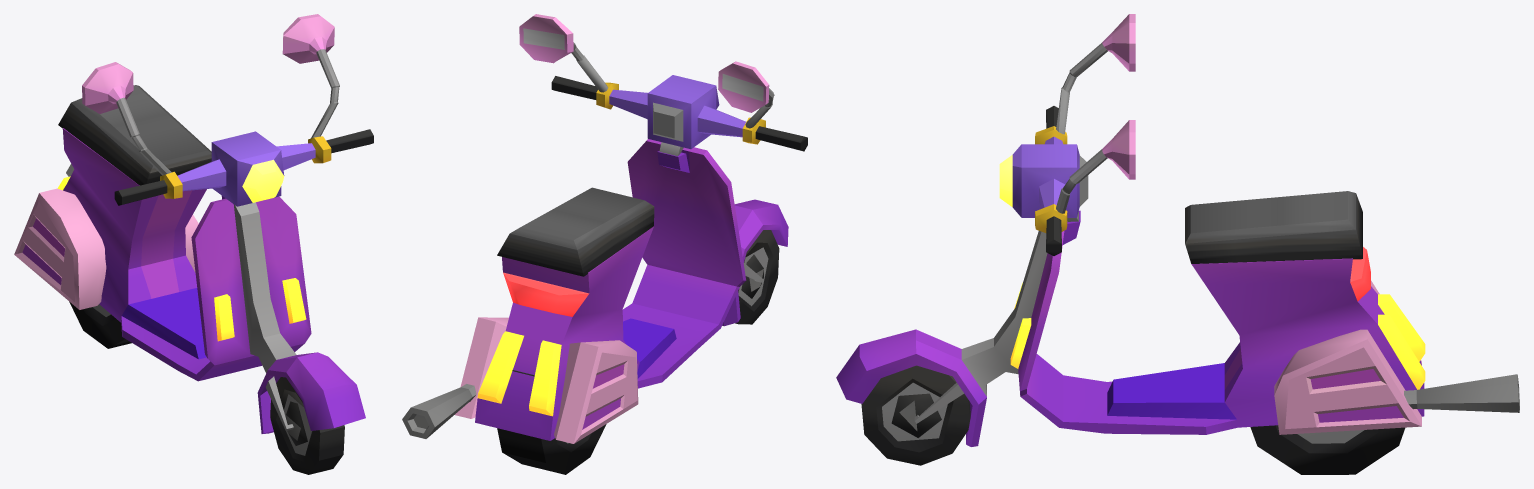
Rendered from scooter.glb.
3 views of the same model, side by side, from view 1: azimuth 30°, elevation 25°; view 2: azimuth 150°, elevation 25°; view 3: azimuth 270°, elevation 25° (orthographic). The views are drawn at different scales.
Parts seen in each view (by area): view 1: Bike; view 2: Bike; view 3: Bike.
Part boxes in pixels (bbox=[...]): Bike: bbox=[14, 14, 373, 474]; Bike: bbox=[402, 14, 807, 474]; Bike: bbox=[836, 14, 1519, 474].
Size of the model in its own units: 1.34 by 1.82 by 2.88.
1 material, 1 textured.
